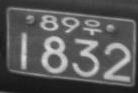1: (13, 32, 36, 70)
2: (104, 41, 131, 83)
3: (72, 38, 100, 77)
8: (39, 35, 68, 74), (40, 14, 59, 32)
9: (60, 15, 80, 33)
우: (82, 18, 102, 36)
